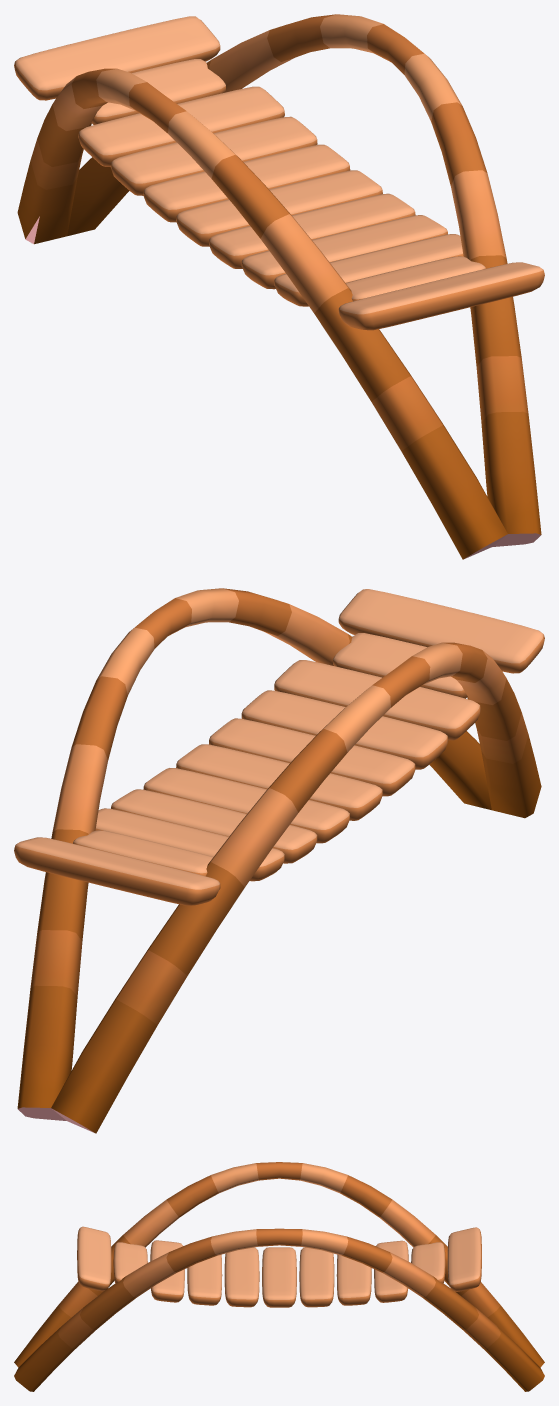
The model's file is Bridge_02.glb.
3 views of the same model, one above another, from view 1: azimuth 30°, elevation 25°; view 2: azimuth 150°, elevation 25°; view 3: azimuth 270°, elevation 25° (orthographic). The views are drawn at different scales.
Visible parts, largest first — view 1: Bridge_02; view 2: Bridge_02; view 3: Bridge_02.
Part boxes in pixels (left/top/right/bottom): Bridge_02: left=14, top=14, right=544, bottom=559; Bridge_02: left=14, top=588, right=544, bottom=1133; Bridge_02: left=14, top=1162, right=544, bottom=1391.
Bounding box in the file's own units: 5.6 × 6.67 × 17.2.
Materials: 1 (1 with a texture image).
